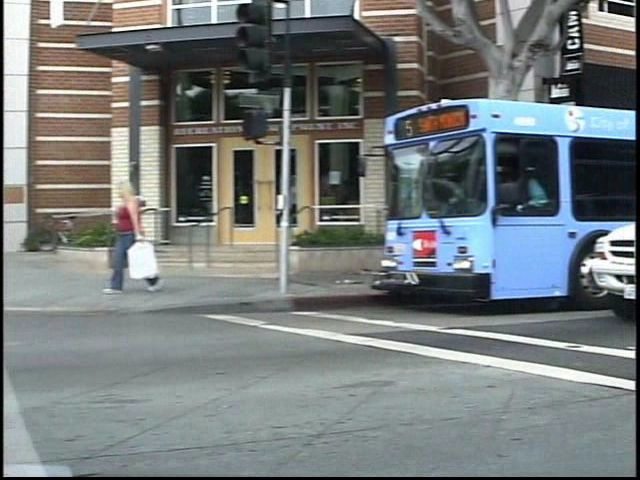person: (112, 179, 170, 302)
